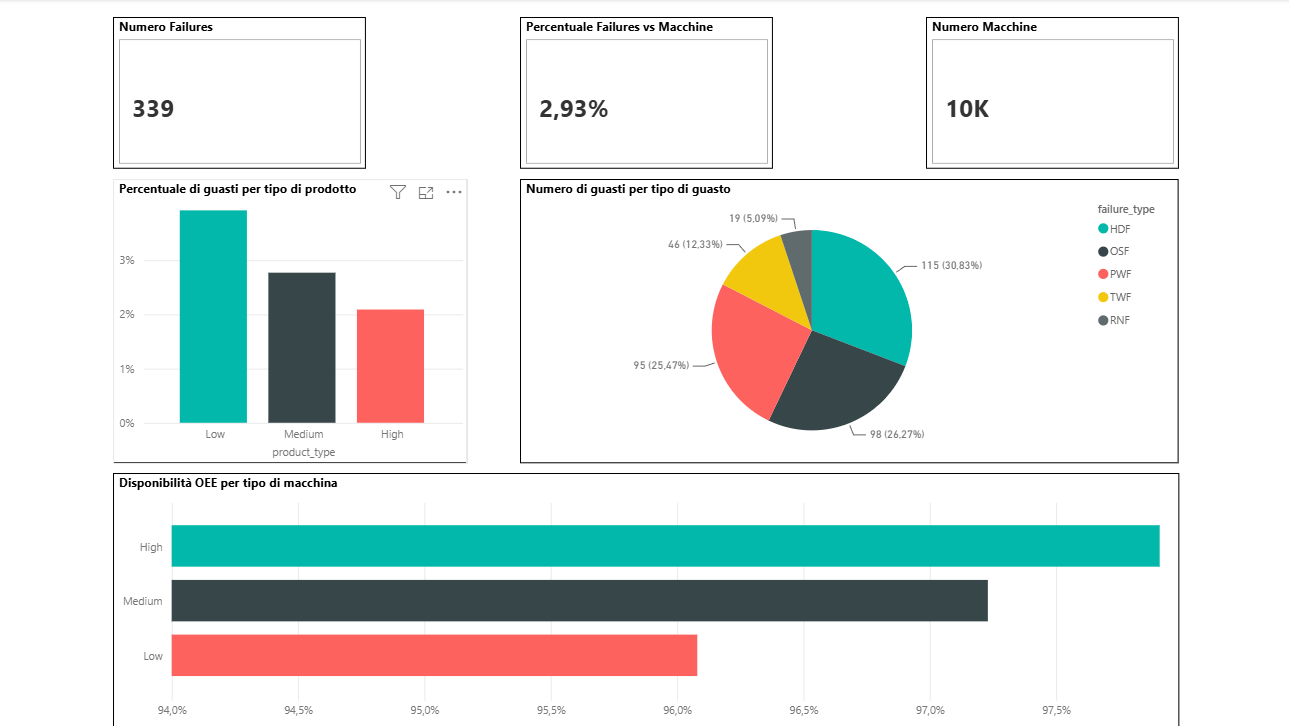

This screenshot's page, from the dashboard's own definition file:
{"tool":"powerbi","page":{"name":"Failure Overview","canvas":[1280,720],"ordinal":0},"visuals":[{"type":"cardVisual","title":"Percentuale Failures vs Macchine","fields":{"Data":["Avg(gold vw_failure_rate_by_product.failure_rate_pct)1"]},"box":[515.8,17.8,249.5,149.9],"z":0},{"type":"cardVisual","title":"Numero Failures","fields":{"Data":["Sum(gold vw_failure_rate_by_product.total_failures)1"]},"box":[113.2,17.8,249.5,149.9],"z":1000},{"type":"cardVisual","title":"Numero Macchine","fields":{"Data":["Sum(gold vw_failure_rate_by_product.total_machines)1"]},"box":[917.3,17.8,249.5,149.9],"z":2000},{"type":"columnChart","title":"Percentuale di guasti per tipo di prodotto","fields":{"Category":["gold vw_failure_rate_by_product.product_type1"],"Y":["Sum(gold vw_failure_rate_by_product.failure_rate_pct)"],"Series":["gold vw_failure_rate_by_product.product_type1"]},"box":[113.2,178.2,350.1,281],"z":3000},{"type":"pieChart","title":"Numero di guasti per tipo di guasto","fields":{"Category":["gold vw_failure_rate_by_type.failure_type1"],"Y":["Sum(gold vw_failure_rate_by_type.total_cases)"]},"box":[515.8,178.2,651,281],"z":4000},{"type":"barChart","title":"Disponibilità OEE per tipo di macchina","fields":{"Category":["gold vw_oee_availability_by_product.product_type"],"Y":["Sum(gold vw_oee_availability_by_product.availability_pct)"],"Series":["gold vw_oee_availability_by_product.product_type"]},"box":[113.2,468.6,1053.6,251.6],"z":5000}]}

Visuals, with their boxes in screenshot pixels (x1, y1, x2, y2), scaled from the page's 1280x720 canvas onto the 1289x726 screenshot:
"Percentuale Failures vs Macchine" cardVisual: bbox=[519, 18, 771, 169]
"Numero Failures" cardVisual: bbox=[114, 18, 365, 169]
"Numero Macchine" cardVisual: bbox=[924, 18, 1175, 169]
"Percentuale di guasti per tipo di prodotto" columnChart: bbox=[114, 180, 467, 463]
"Numero di guasti per tipo di guasto" pieChart: bbox=[519, 180, 1175, 463]
"Disponibilità OEE per tipo di macchina" barChart: bbox=[114, 473, 1175, 725]
